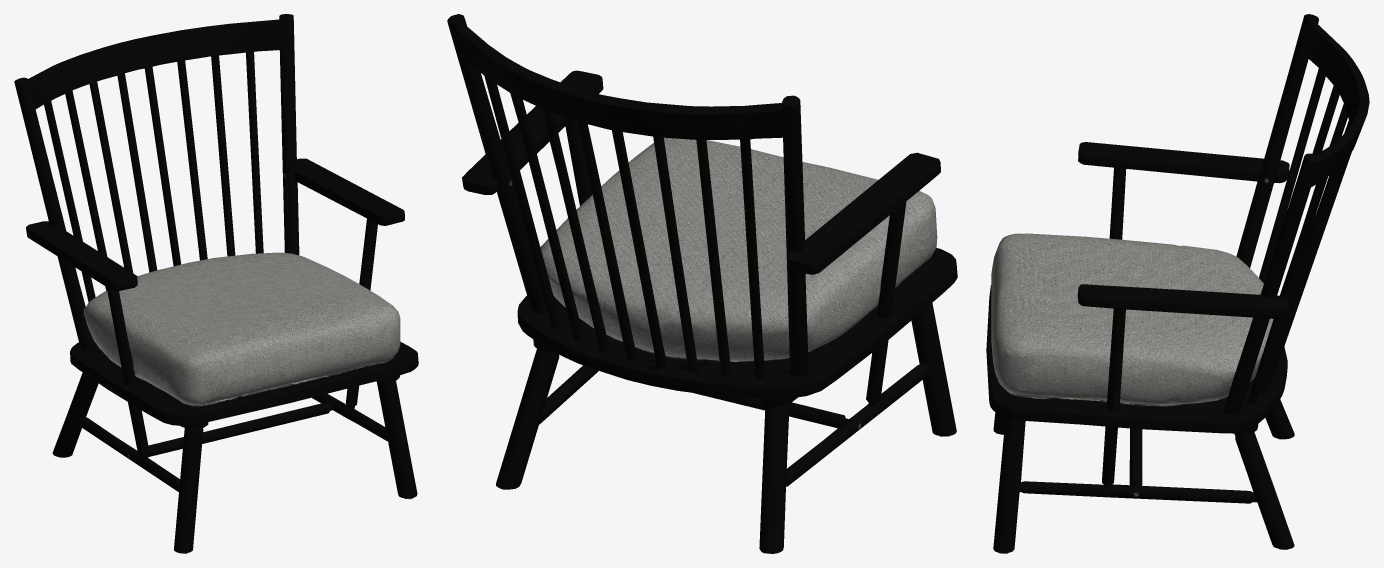
Rendered from persbol_fotel_50525920.glb.
The picture shows the model from 3 angles, left to right: view 1: azimuth 30°, elevation 25°; view 2: azimuth 150°, elevation 25°; view 3: azimuth 270°, elevation 25°; orthographic projection. The views are drawn at different scales.
Visible parts, largest first — view 1: persbol_fotel_50525920; view 2: persbol_fotel_50525920; view 3: persbol_fotel_50525920.
Boxes of the visible parts, bbox=[...] form: persbol_fotel_50525920: bbox=[14, 14, 418, 553]; persbol_fotel_50525920: bbox=[447, 14, 957, 553]; persbol_fotel_50525920: bbox=[986, 14, 1369, 553].
Bounding box in the file's own units: 0.6932 × 0.8466 × 0.7233.
1 material, 1 textured.
